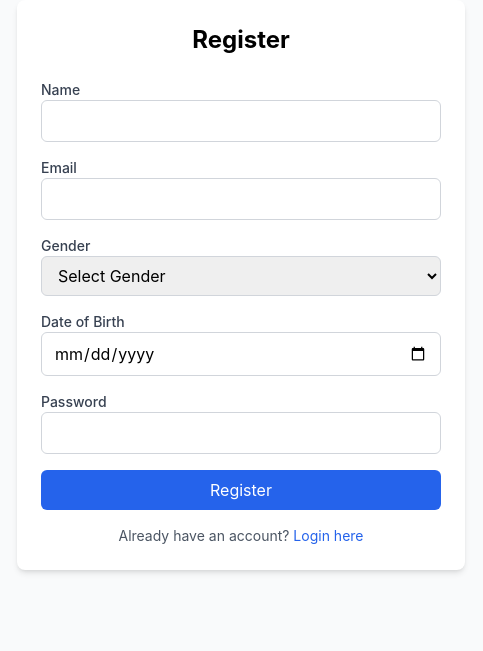
it: Register Component › form validation › shows error when gender is missing
In the field labelled "Name": (241, 121) [41, 100, 441, 142], type "John Doe"
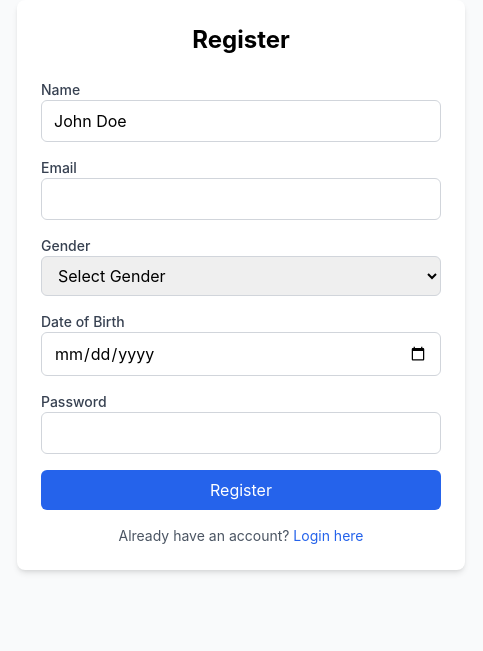
In the field labelled "Email": (241, 199) [41, 178, 441, 220], type "john@example.com"
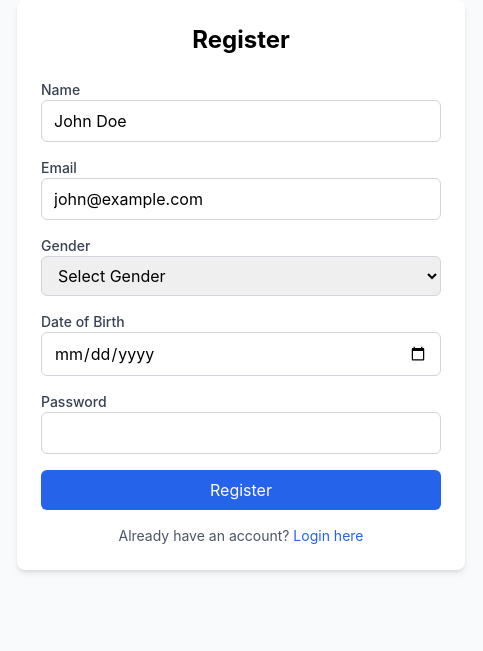
Click the button "Register": click(241, 490) [41, 470, 441, 510]
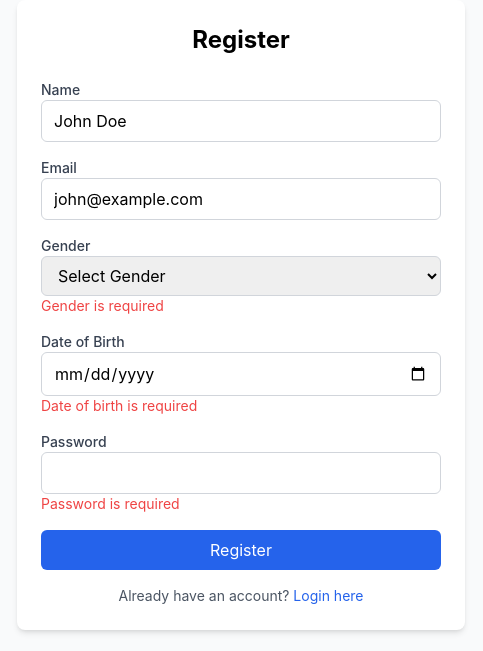
Expected: the text "Gender is required" is shown, [41, 297, 164, 314]
